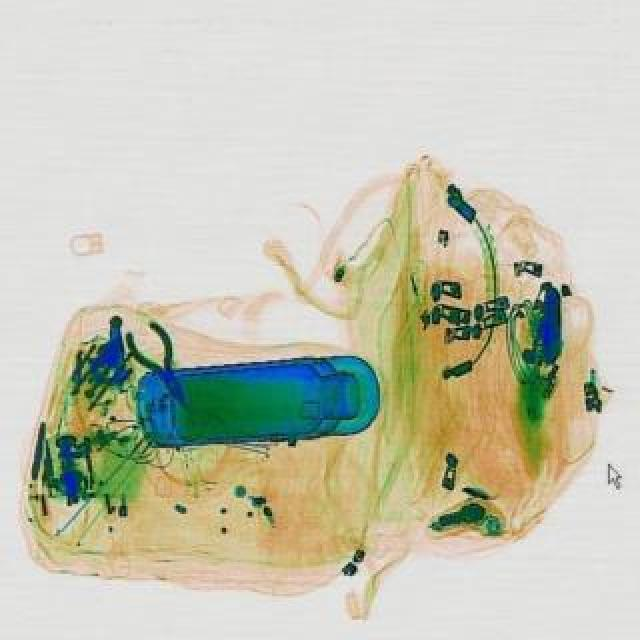wrench: (118, 316, 206, 416)
